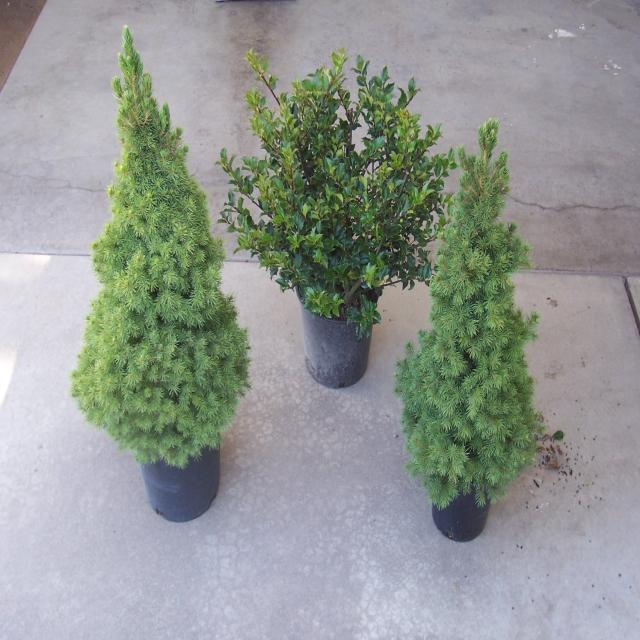Christmas-tree: (52, 12, 250, 450)
